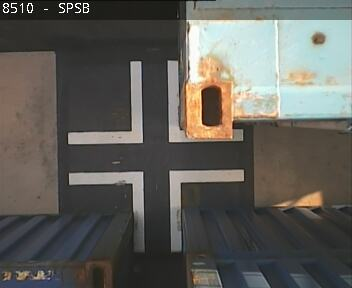groundmarker_1: (68, 166, 244, 251), (65, 61, 242, 145)
